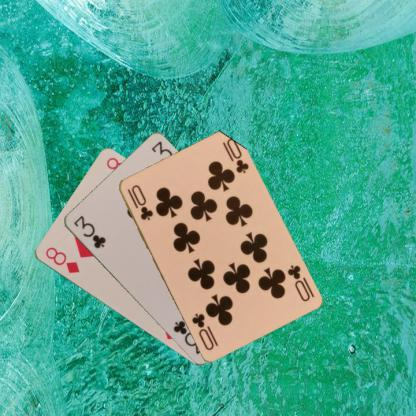10c: (124, 182, 154, 222), (284, 262, 312, 302)
3c: (70, 213, 107, 250)
8d: (42, 244, 81, 275)
